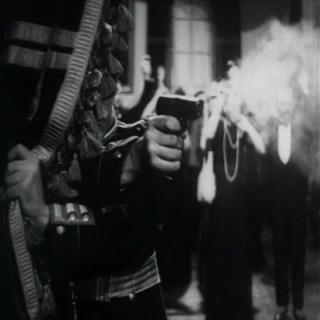gun: (150, 90, 205, 182)
